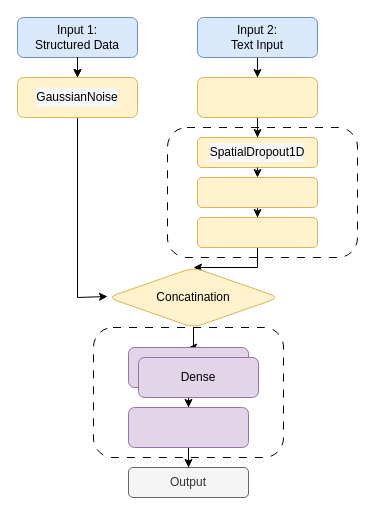
Some shapes in this 375 by 515 pixel diagram are drawn without their labels. The centre of each missing label's shape, as x and y in pixels:
BatchNormalization: point (257, 232)
Bidirectional LSTM: point (257, 192)
Dropout: point (188, 427)
Ebbedding: point (257, 97)
